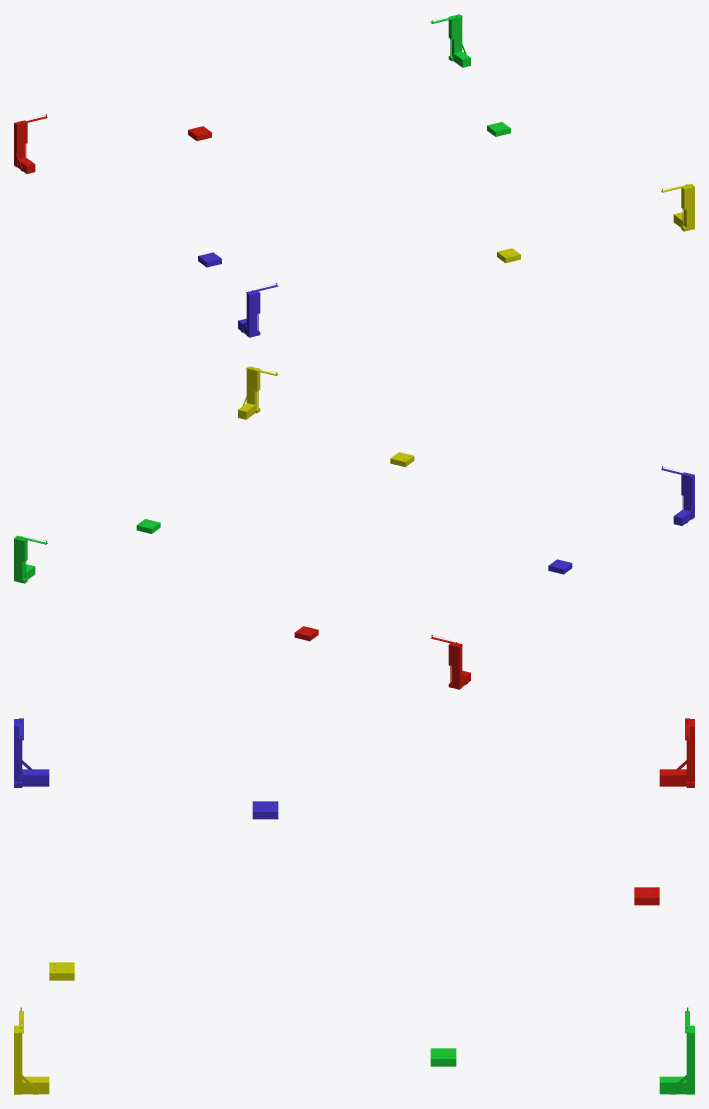
Rendered from elements.dae.
The picture shows the model from 3 angles, top to bottom: view 1: azimuth 30°, elevation 25°; view 2: azimuth 150°, elevation 25°; view 3: azimuth 270°, elevation 25°; orthographic projection. The views are drawn at different scales.
Visible parts, largest first — view 1: node131, node156, node139, node30; view 2: node30, node139, node156, node131; view 3: node30, node131, node139, node156.
Boxes of the visible parts, x1=… form: node131: x1=430, y1=14, x2=470, y2=67; node156: x1=14, y1=114, x2=47, y2=173; node139: x1=238, y1=283, x2=278, y2=337; node30: x1=661, y1=183, x2=694, y2=231; node30: x1=238, y1=366, x2=278, y2=419; node139: x1=661, y1=466, x2=694, y2=525; node156: x1=430, y1=635, x2=470, y2=689; node131: x1=14, y1=535, x2=47, y2=583; node30: x1=14, y1=1007, x2=49, y2=1094; node131: x1=659, y1=1007, x2=694, y2=1094; node139: x1=14, y1=718, x2=49, y2=787; node156: x1=659, y1=718, x2=694, y2=787.
Bounding box in the file's own units: 13.41 × 12.24 × 1.31.
